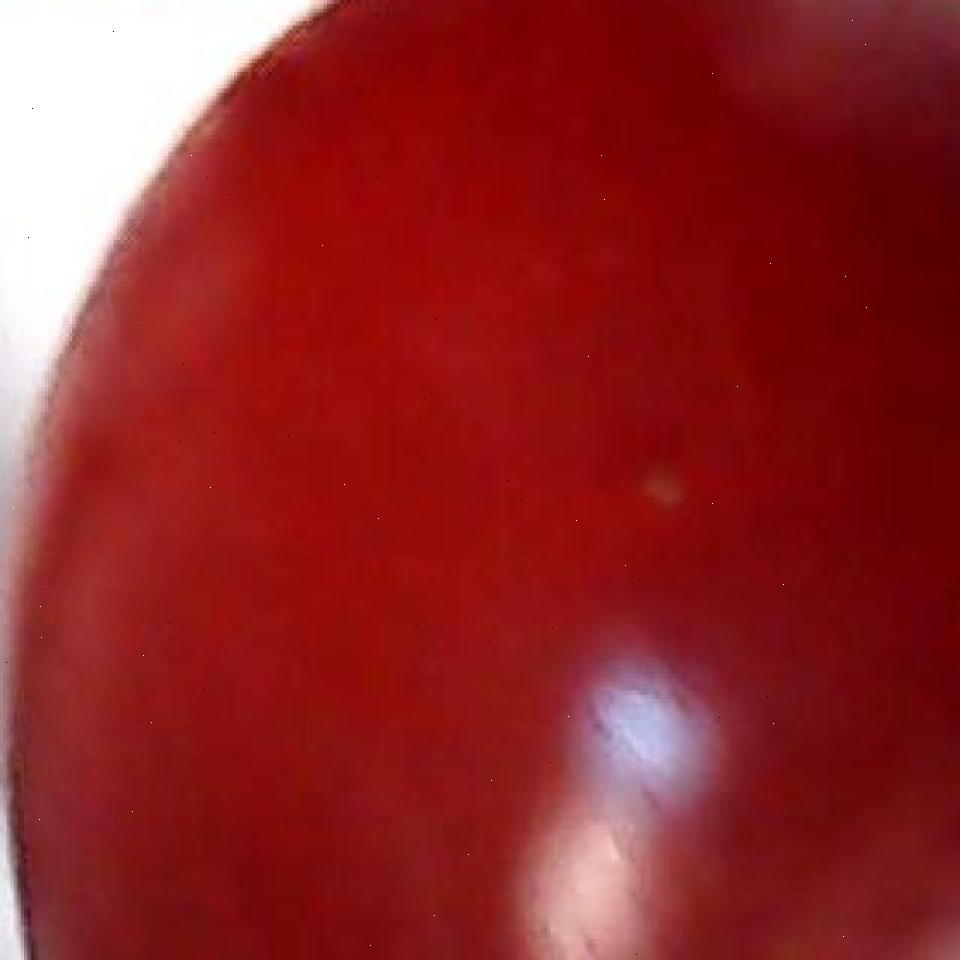Healthy: (18, 24, 954, 954)
